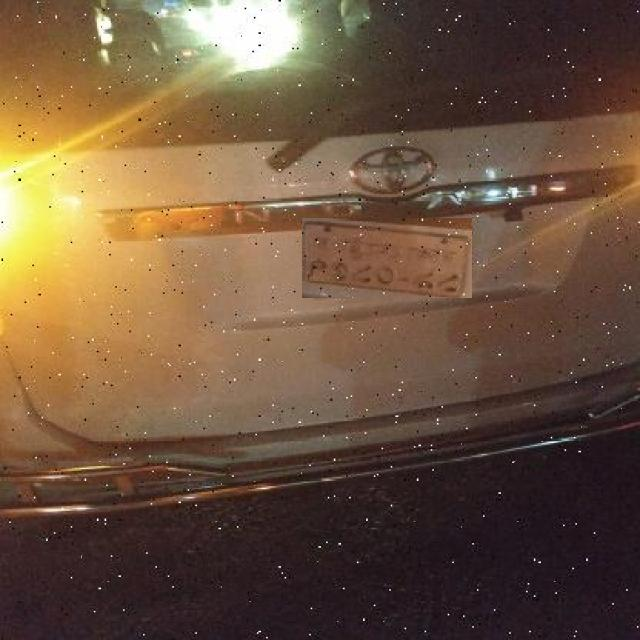numberplate: (302, 218, 472, 298)
